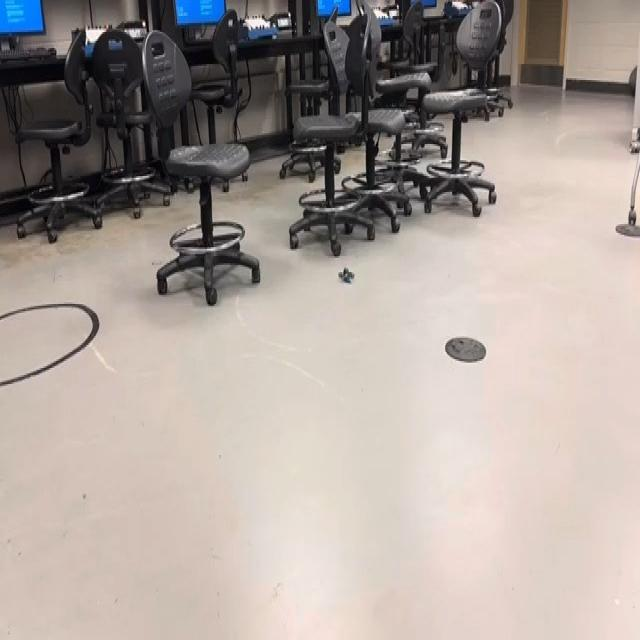drone: (334, 254, 359, 292)
